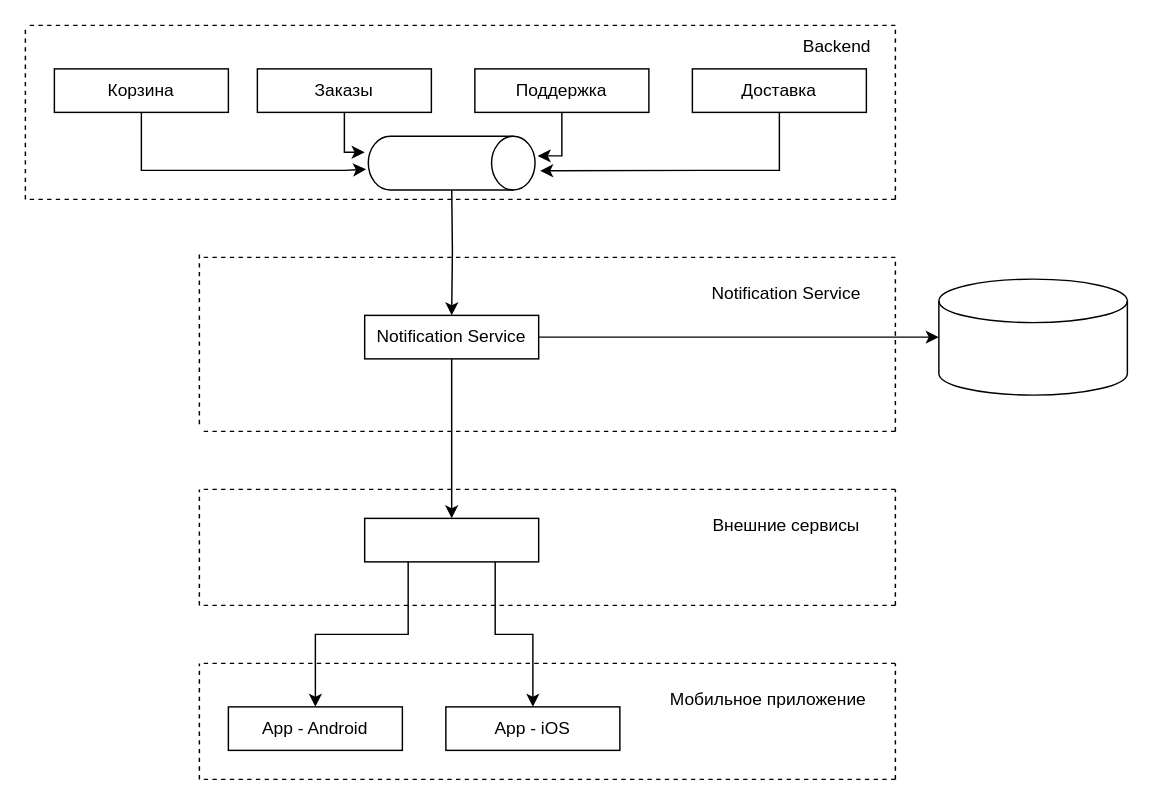
Image size: 1153x806. Some labels were removed from this diagram. The box of each missing label's shape, as (x1, y1, x2, y2) in pixels:
FCM - Firebase Cloud Messaging: (363, 517, 539, 562)
Kafka: (367, 135, 535, 190)
Notification DB: (937, 278, 1127, 395)
